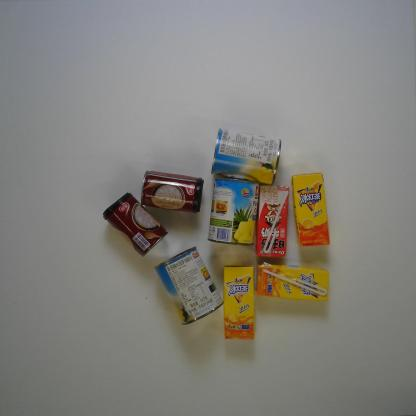Canned Food: (154, 246, 224, 325), (102, 192, 168, 258), (211, 127, 282, 187), (207, 178, 261, 246), (140, 170, 205, 214)
Drink: (291, 173, 330, 247), (257, 264, 330, 301), (224, 264, 256, 341)
Milk: (255, 184, 290, 258)
